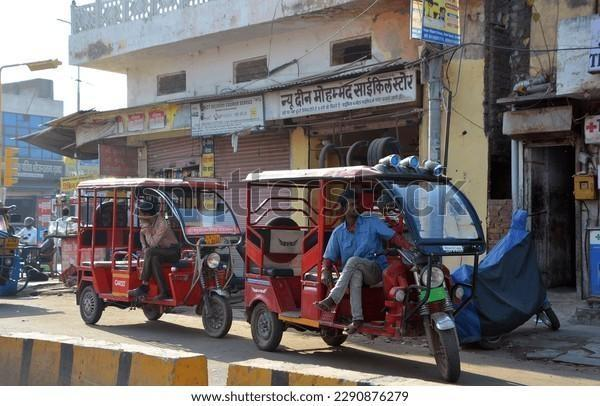keke: (75, 174, 235, 342)
